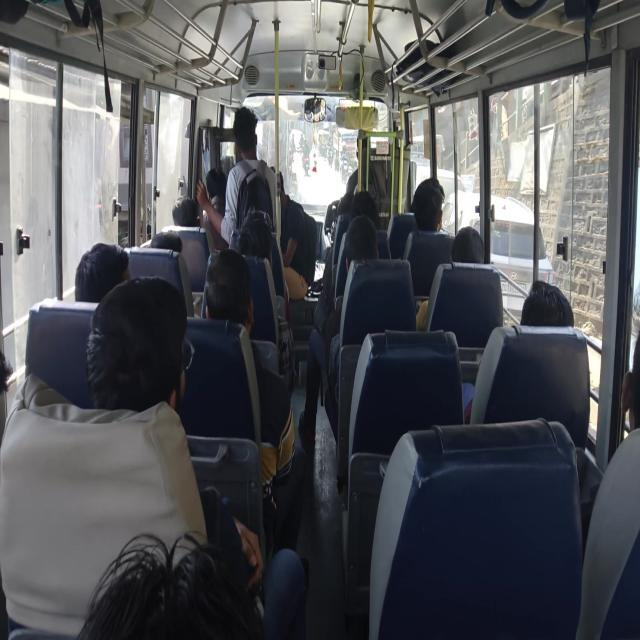person: (88, 457, 212, 640), (100, 268, 175, 395), (528, 271, 593, 347), (70, 247, 137, 317), (204, 251, 245, 357), (617, 328, 640, 516), (286, 188, 318, 307), (176, 192, 216, 256), (420, 182, 454, 244), (239, 217, 274, 276), (157, 220, 189, 282), (233, 101, 264, 161), (342, 233, 382, 273), (342, 186, 378, 225), (456, 230, 481, 277), (242, 206, 280, 235), (205, 167, 226, 212), (264, 160, 288, 198), (408, 180, 433, 203)
